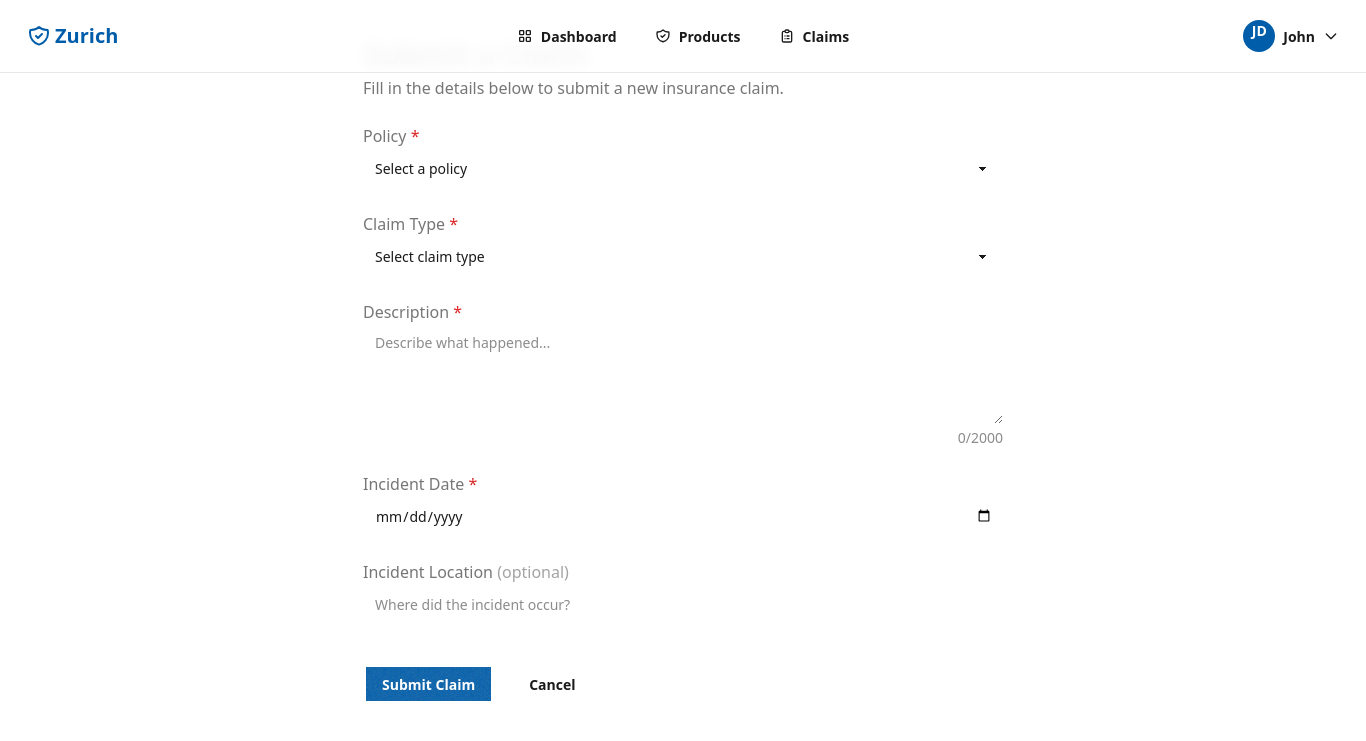
Test: Submit Claim Page › shows validation errors inline when submitting empty form (requires fields)
(page scrolled)
Click the button "Submit Claim".
click(429, 684)  # box [363, 664, 494, 704]
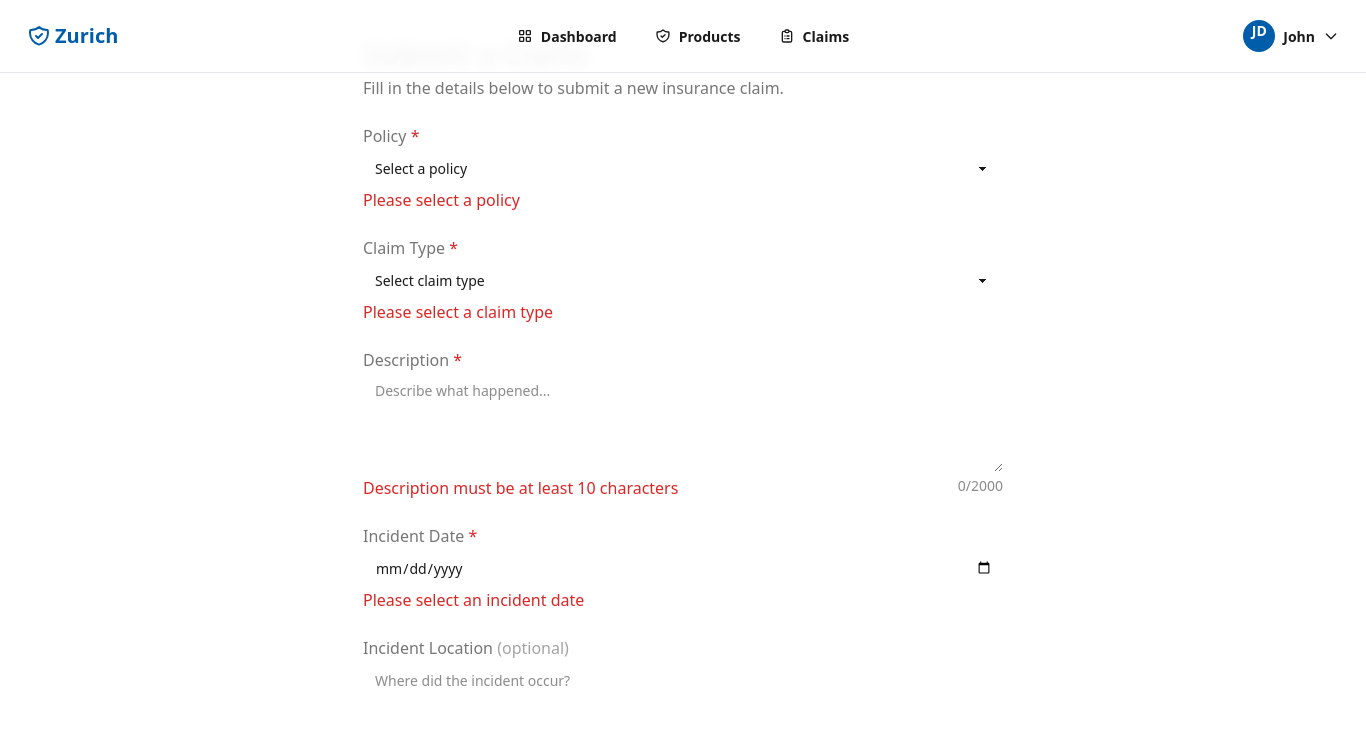
Expected: the text "Please select a policy" is shown, [363, 188, 520, 212]
